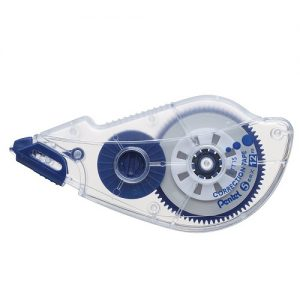Correction_fluid: (7, 88, 298, 239)
